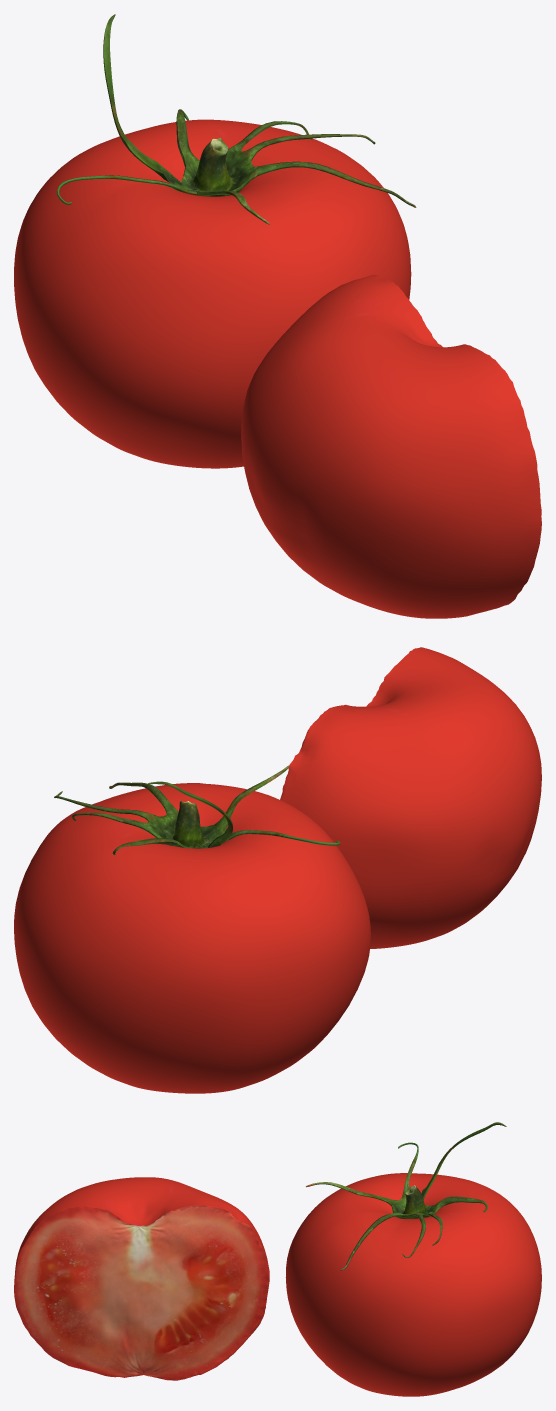
The model's file is tomatoes.fbx.
3 renders of one model, top to bottom at view 1: azimuth 30°, elevation 25°; view 2: azimuth 150°, elevation 25°; view 3: azimuth 270°, elevation 25°, orthographic. The views are drawn at different scales.
Parts seen in each view (by area): view 1: tomato, tomato_cut; view 2: tomato, tomato_cut; view 3: tomato, tomato_cut.
Part boxes in pixels (x1,y1,x2,y2): tomato: (14,14,416,468); tomato_cut: (241,275,541,618); tomato: (14,765,370,1093); tomato_cut: (280,647,541,948); tomato: (285,1122,541,1396); tomato_cut: (14,1177,269,1380).
Size of the model in its own units: 7.01 by 7.31 by 14.45.
